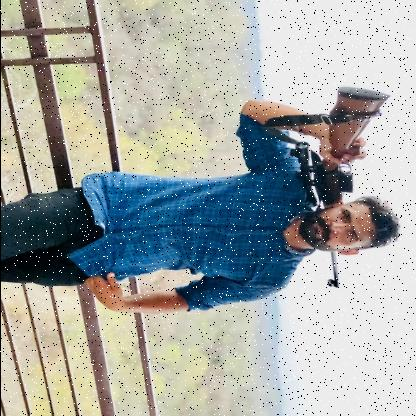rifle: (288, 84, 392, 290)
